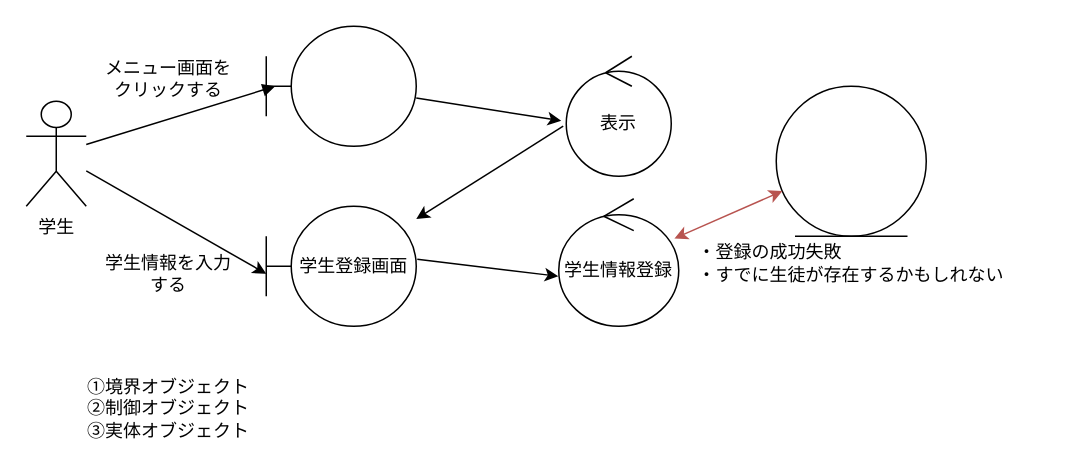
The diagram is 1073 pixels wide and 473 high, and some of its shapes have lost their labels. The centre of each missing label's shape, as x and y in pixels:
メニュー画面: pixel 340 85
学生オブジェクト: pixel 850 160
